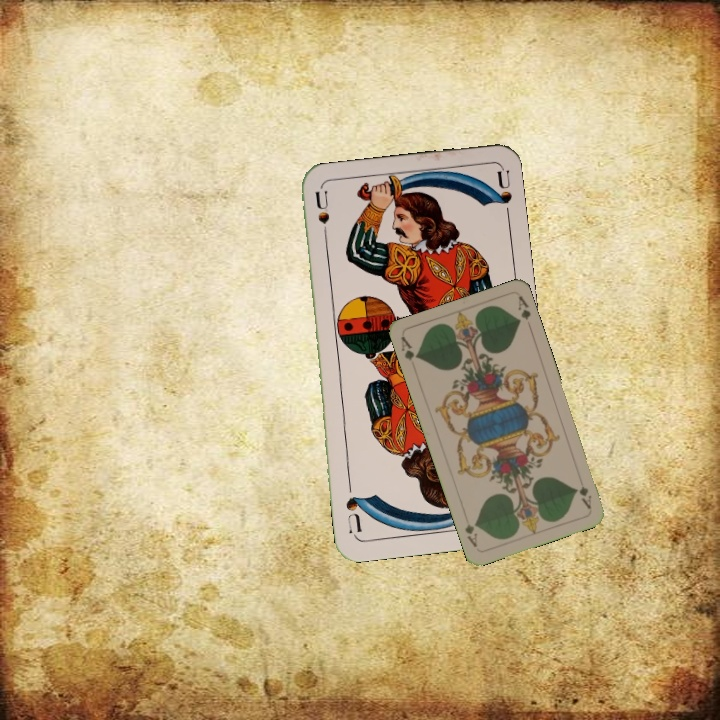GA: (397, 333, 421, 363), (573, 482, 594, 512)
SU: (311, 188, 332, 248)
